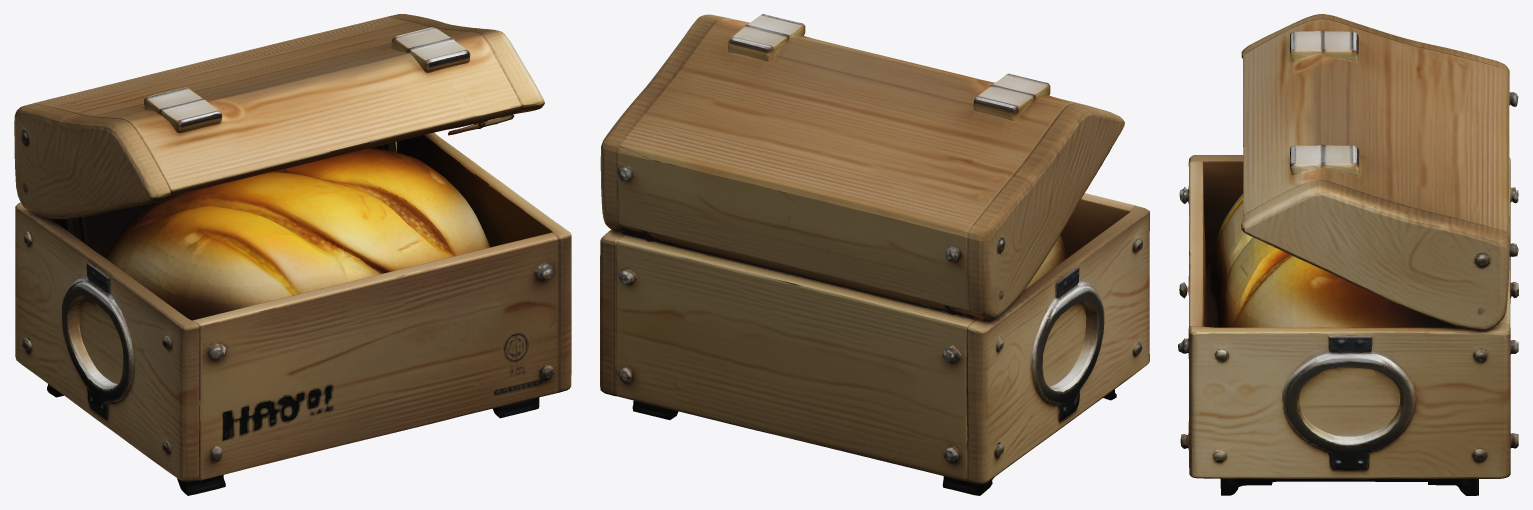
The model's file is wooden-bread-box-futuristic.jpeg.glb.
3 renders of one model, left to right at view 1: azimuth 30°, elevation 25°; view 2: azimuth 150°, elevation 25°; view 3: azimuth 270°, elevation 25°, orthographic. The views are drawn at different scales.
Parts seen in each view (by area): view 1: world; view 2: world; view 3: world.
Boxes of the visible parts, bbox=[...] form: world: bbox=[14, 14, 571, 495]; world: bbox=[600, 14, 1149, 495]; world: bbox=[1178, 14, 1518, 495].
Bounding box in the file's own units: 1 × 0.8204 × 0.7934.
1 material, 1 textured.
